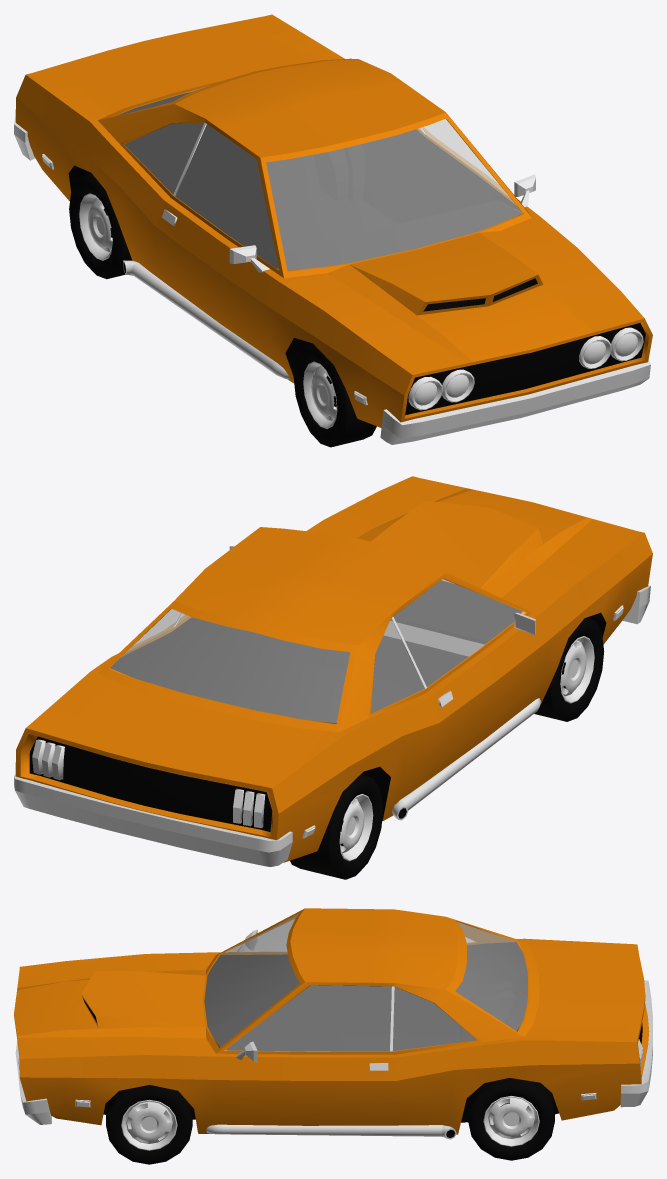
Rendered from Car.fbx.
3 views of the same model, one above another, from view 1: azimuth 30°, elevation 25°; view 2: azimuth 150°, elevation 25°; view 3: azimuth 270°, elevation 25° (orthographic). The views are drawn at different scales.
Visible parts, largest first — view 1: Cube, Cube.001, Cube.005, Cube.002; view 2: Cube, Cube.005, Cube.001; view 3: Cube, Cube.002, Cube.004, Cube.005.
Part boxes in pixels (x1,y1,x2,y2): Cube: (14,14,652,444); Cube.001: (293,343,376,447); Cube.005: (69,173,132,279); Cube.002: (314,148,348,200); Cube: (14,476,652,866); Cube.005: (290,774,383,879); Cube.001: (534,617,604,721); Cube: (14,908,652,1139); Cube.002: (468,1078,554,1160); Cube.004: (106,1085,192,1164); Cube.005: (468,990,515,1040).
Bounding box in the file's own units: 214 × 141 × 476.
